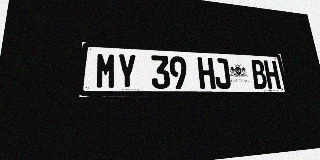3: (151, 55, 170, 89)
9: (169, 56, 188, 89)
B: (250, 60, 268, 89)
H: (197, 57, 216, 89), (263, 60, 281, 89)
J: (213, 58, 231, 89)
M: (95, 52, 116, 89)
Y: (117, 53, 137, 89)
